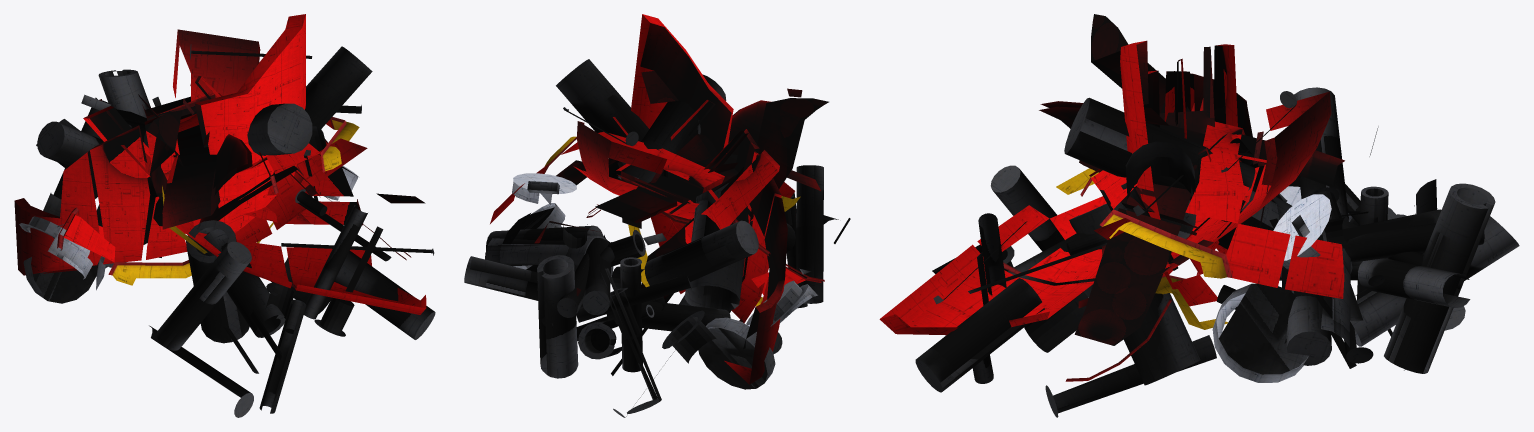
Rendered from MonsterA2_die13.obj.
3 views of the same model, side by side, from view 1: azimuth 30°, elevation 25°; view 2: azimuth 150°, elevation 25°; view 3: azimuth 270°, elevation 25° (orthographic). The views are drawn at different scales.
Parts seen in each view (by area): view 1: Box001; view 2: Box001; view 3: Box001.
Part boxes in pixels (left/top/right/bottom): Box001: left=14, top=14, right=435, bottom=417; Box001: left=464, top=14, right=850, bottom=417; Box001: left=879, top=14, right=1519, bottom=417.
Bounding box in the file's own units: 238 × 250 × 338.
Materials: 1 (1 with a texture image).
